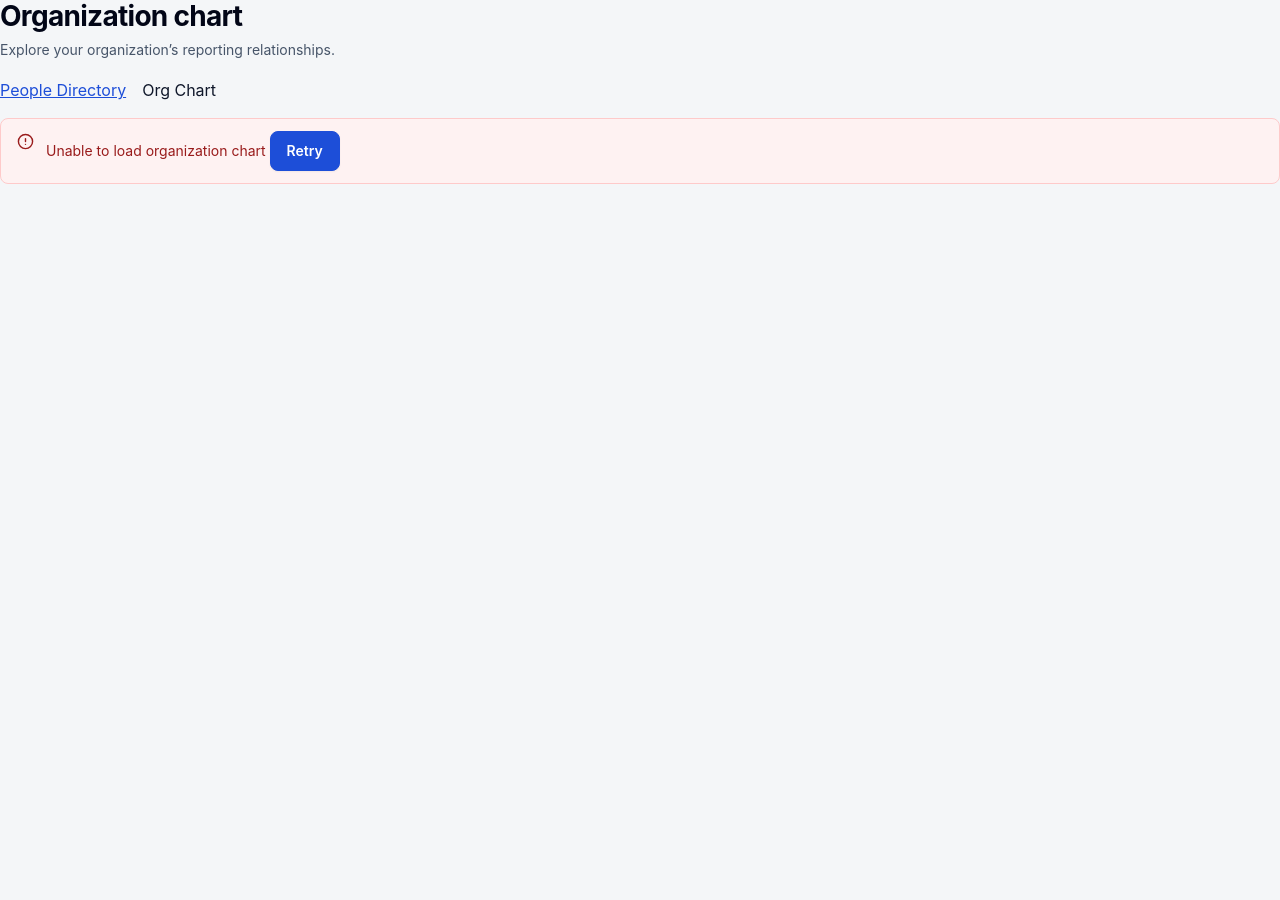
Scenario: failed fetch offers retry and no misleading empty state
The image size is (1280, 900).
Click the button "Retry" at (305, 151), box x1=270 y1=131 x2=340 y2=171
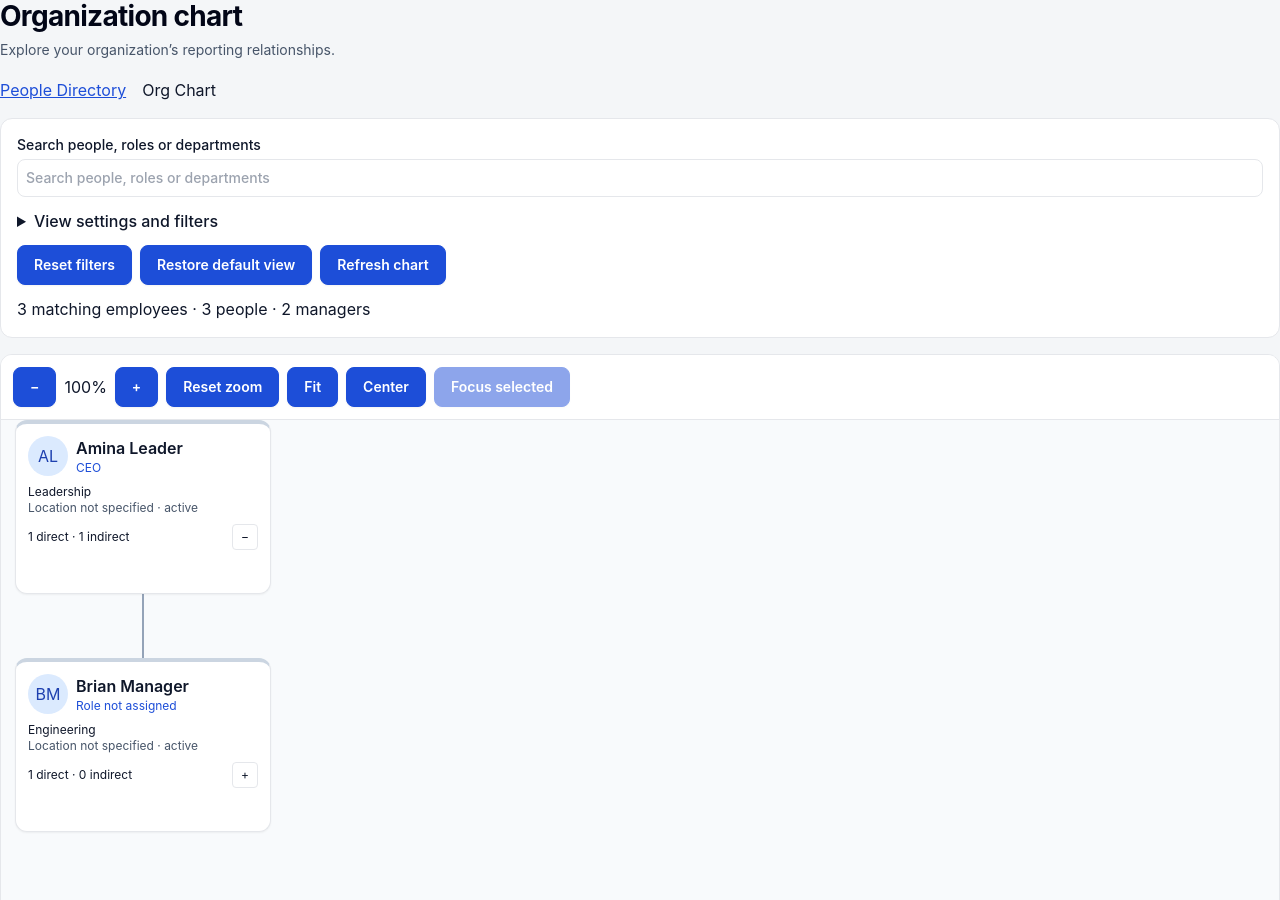
Check: the button with aria-label "View Amina Leader" is shown, box x1=28 y1=436 x2=258 y2=476
